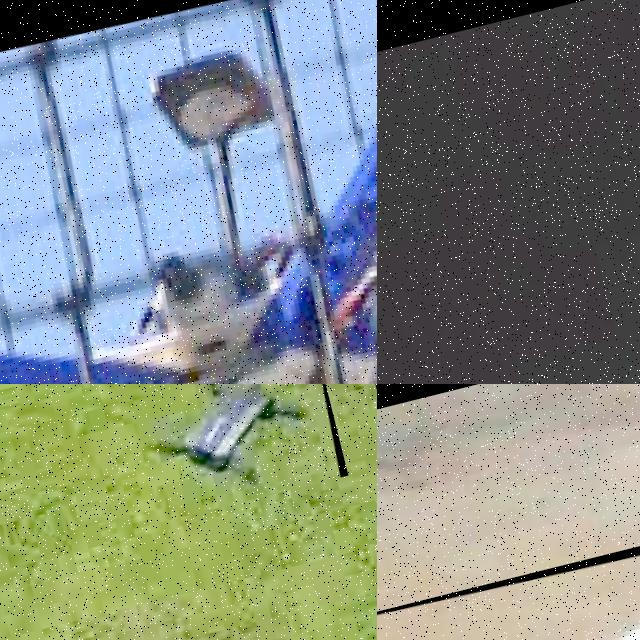drone: (0, 0, 377, 384), (377, 495, 640, 640), (118, 384, 348, 522)
